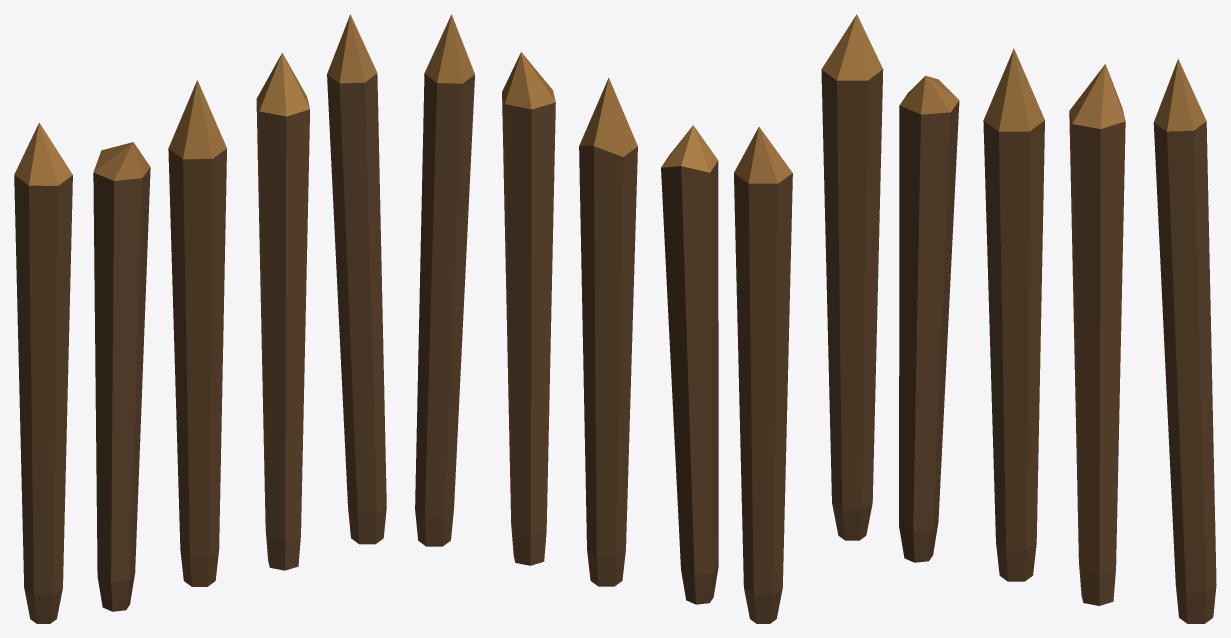
File: medieval_stakes.fbx
3 views of the same model, side by side, from view 1: azimuth 30°, elevation 25°; view 2: azimuth 150°, elevation 25°; view 3: azimuth 330°, elevation 25° (orthographic). The views are drawn at different scales.
Visible parts, largest first — view 1: medieval_stakes; view 2: medieval_stakes; view 3: medieval_stakes.
Boxes of the visible parts, x1,y1,x2,y2 form: medieval_stakes: [14, 14, 386, 623]; medieval_stakes: [415, 14, 792, 623]; medieval_stakes: [821, 14, 1216, 623].
Bounding box in the file's own units: 143 × 200 × 21.58.
